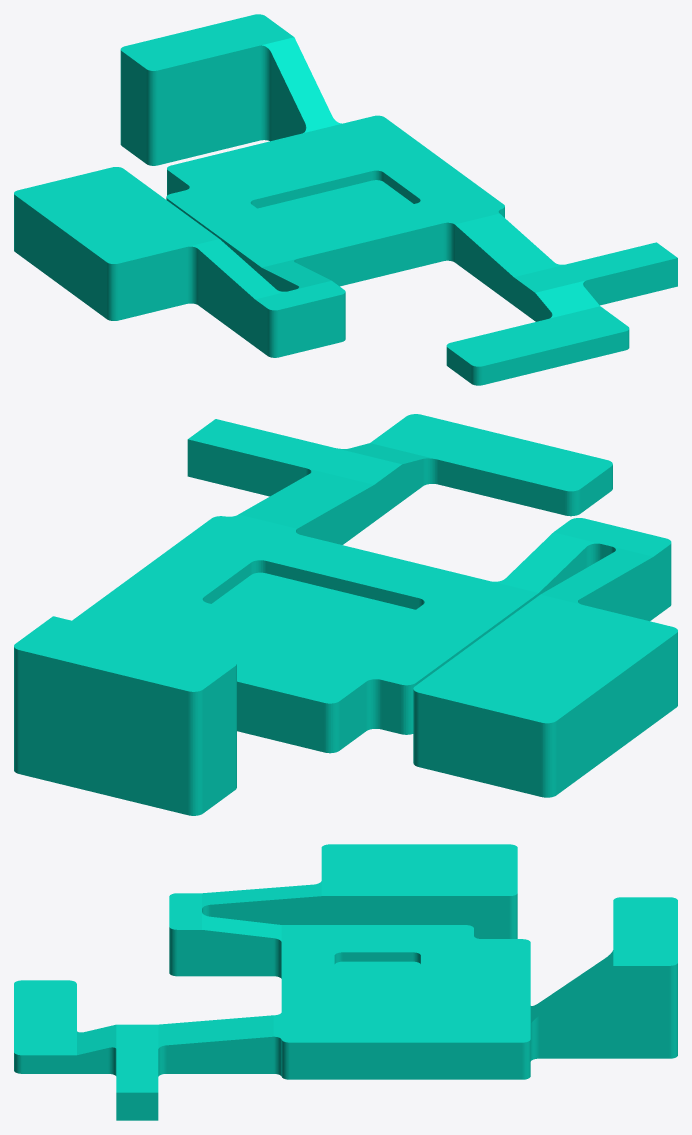
The model's file is CuevaB28.fbx.
The picture shows the model from 3 angles, top to bottom: view 1: azimuth 30°, elevation 25°; view 2: azimuth 150°, elevation 25°; view 3: azimuth 270°, elevation 25°; orthographic projection. The views are drawn at different scales.
Parts seen in each view (by area): view 1: Cueva; view 2: Cueva; view 3: Cueva.
Boxes of the visible parts, left/top/right/bottom form: Cueva: left=14, top=14, right=677, bottom=385; Cueva: left=14, top=414, right=677, bottom=815; Cueva: left=14, top=844, right=677, bottom=1120.
Size of the model in its own units: 127 by 162 by 25.
